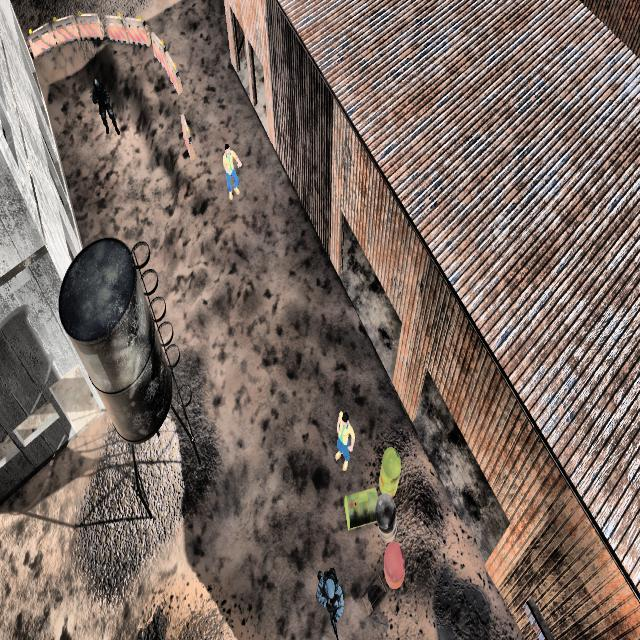bad: (310, 552, 348, 638), (91, 63, 121, 147)
good: (322, 394, 362, 480), (220, 132, 244, 212)
